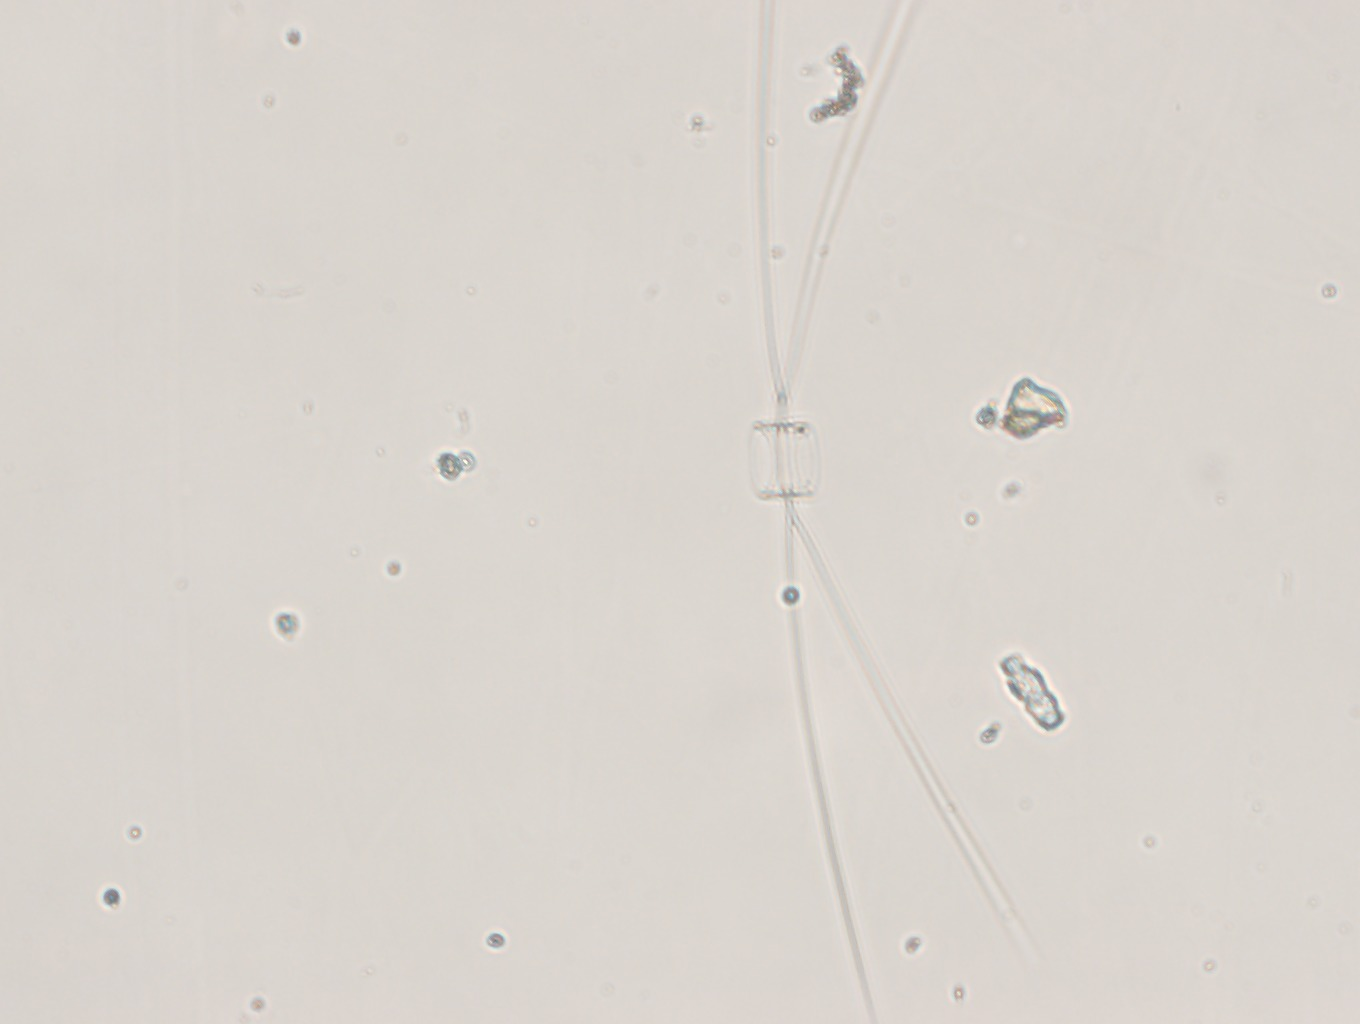chaetoceros: (736, 1, 1048, 1024)
